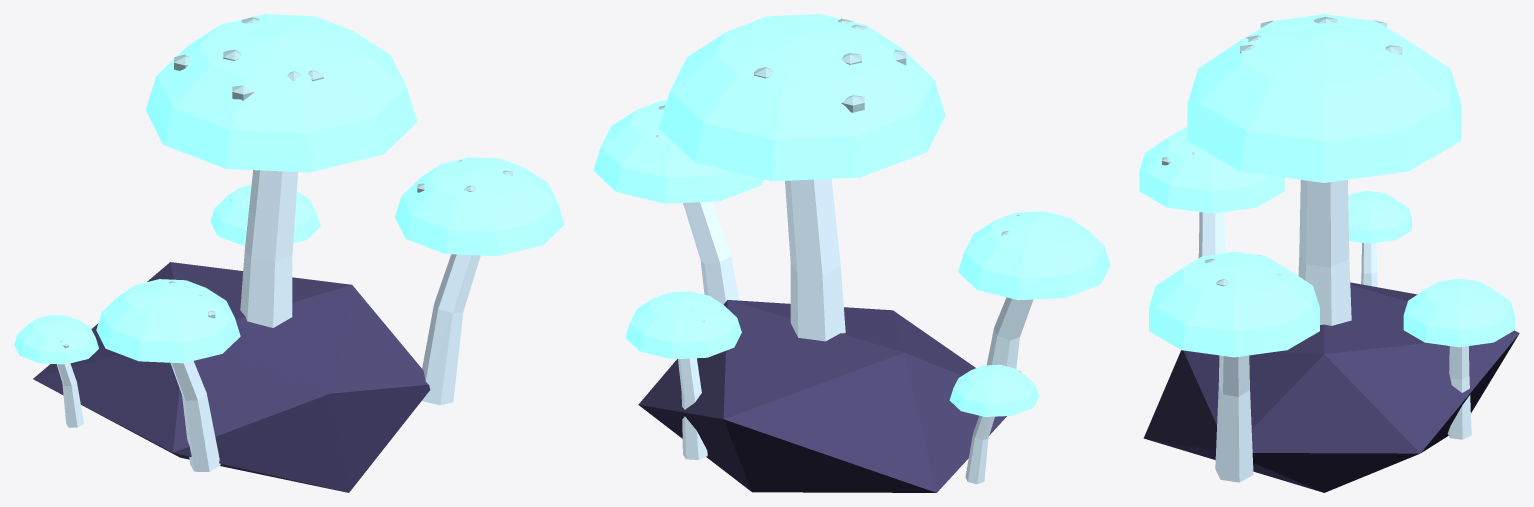
Rendered from Mine_GlowShroom_Cluster.fbx.
The picture shows the model from 3 angles, left to right: view 1: azimuth 30°, elevation 25°; view 2: azimuth 150°, elevation 25°; view 3: azimuth 270°, elevation 25°; orthographic projection. The views are drawn at different scales.
Visible parts, largest first — view 1: Mine_GlowShroom_Cluster_Body; view 2: Mine_GlowShroom_Cluster_Body; view 3: Mine_GlowShroom_Cluster_Body.
Boxes of the visible parts, bbox=[...] form: Mine_GlowShroom_Cluster_Body: bbox=[14, 14, 564, 492]; Mine_GlowShroom_Cluster_Body: bbox=[593, 14, 1110, 492]; Mine_GlowShroom_Cluster_Body: bbox=[1139, 14, 1519, 492].
Size of the model in its own units: 1.27 by 1.03 by 0.8461.
